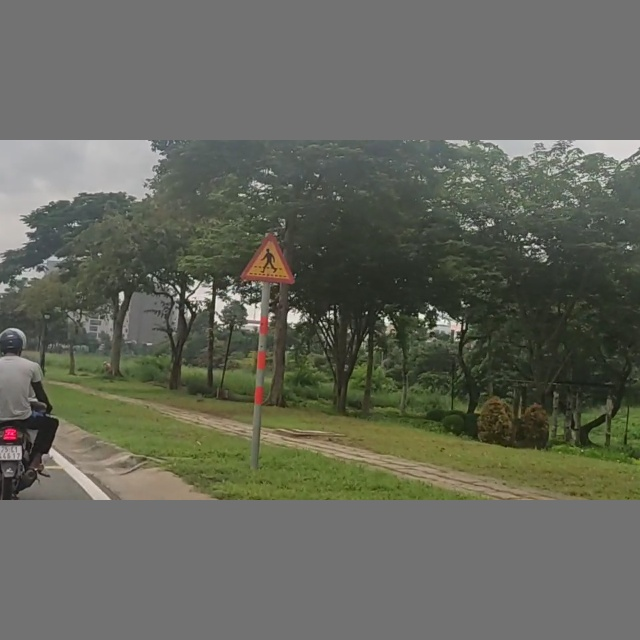W.224: (241, 233, 295, 285)
